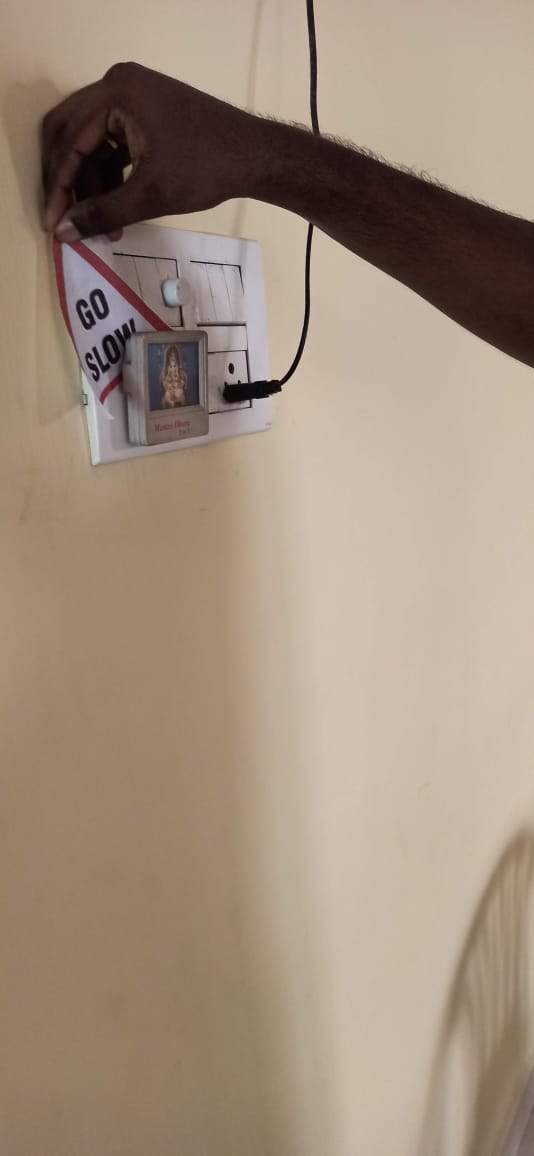GO SLOW: (33, 220, 193, 405)
